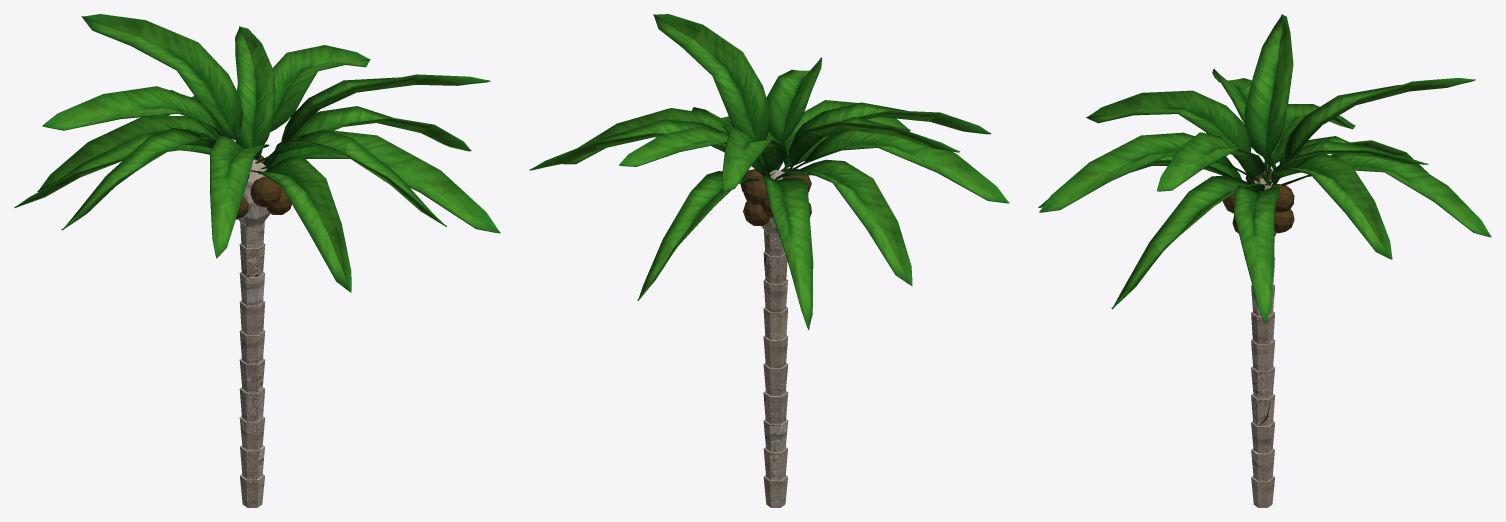
File: coconuttree01.fbx
3 views of the same model, side by side, from view 1: azimuth 30°, elevation 25°; view 2: azimuth 150°, elevation 25°; view 3: azimuth 270°, elevation 25° (orthographic). The views are drawn at different scales.
Parts seen in each view (by area): view 1: palm_tree_LOD0; view 2: palm_tree_LOD0; view 3: palm_tree_LOD0.
Boxes of the visible parts, left/top/right/bottom form: palm_tree_LOD0: left=14, top=14, right=500, bottom=507; palm_tree_LOD0: left=529, top=14, right=1009, bottom=507; palm_tree_LOD0: left=1038, top=14, right=1491, bottom=507.
Bounding box in the file's own units: 6.18 × 5.87 × 5.86.
Materials: 3 (2 with a texture image).
